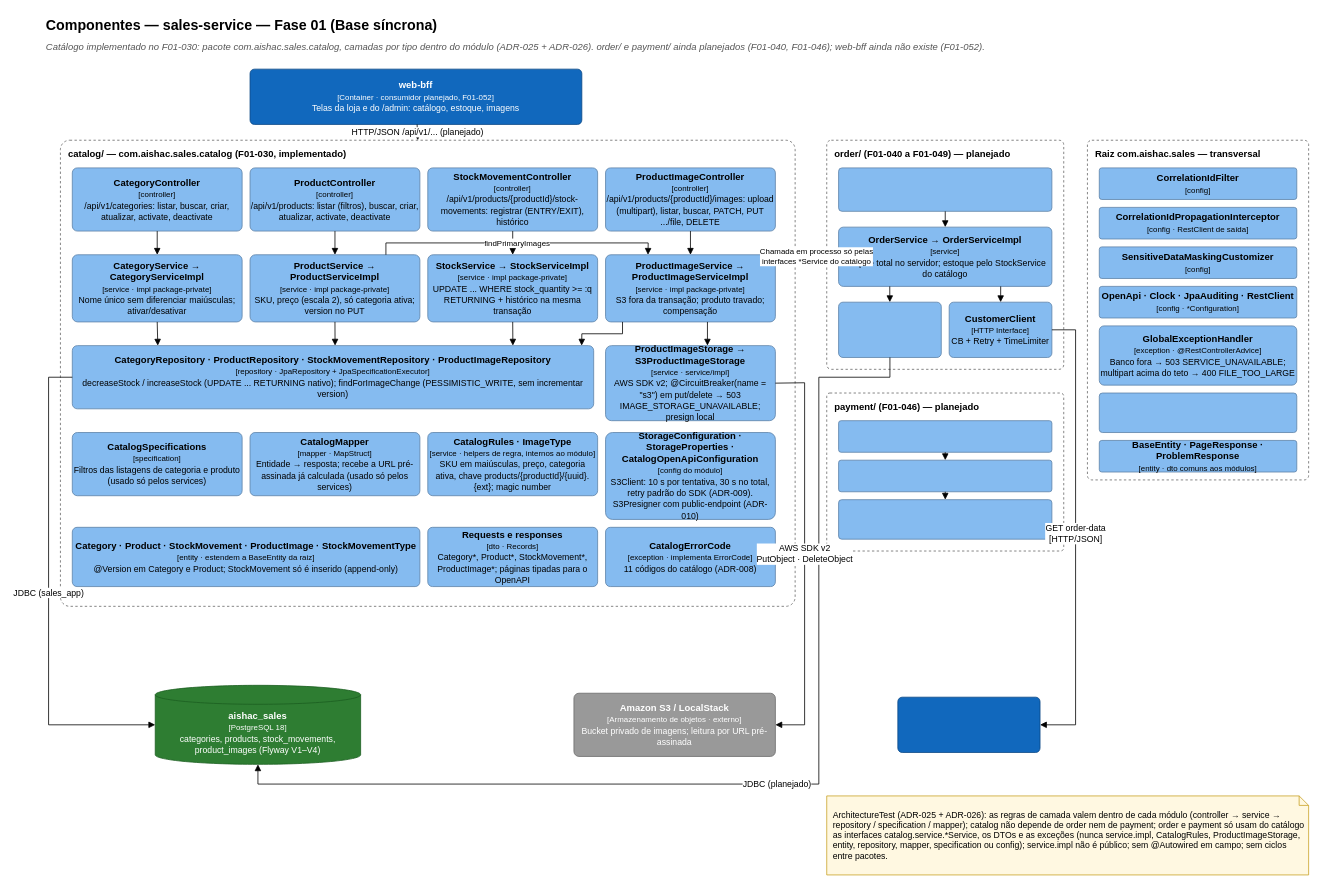
Some shapes in this 1322 by 889 pixel diagram are drawn without their labels. The centre of each missing label's shape, as x and y in pixels:
customer-service [Container]: [968,724]
ErrorCode · CommonErrorCode · BusinessException · NotFoundException [exception]: [1197,412]
OrderController [controller] Idempotency-Key obrigatório: [945,189]
OrderRepository · Order + OrderState [repository · entity] Padrão State: [889,329]
PaymentController [controller]: [945,436]
PaymentService → PaymentServiceImpl [service]: [945,475]
PaymentStrategy Pix · Card · Boleto (padrão Strategy, simulados): [945,519]
